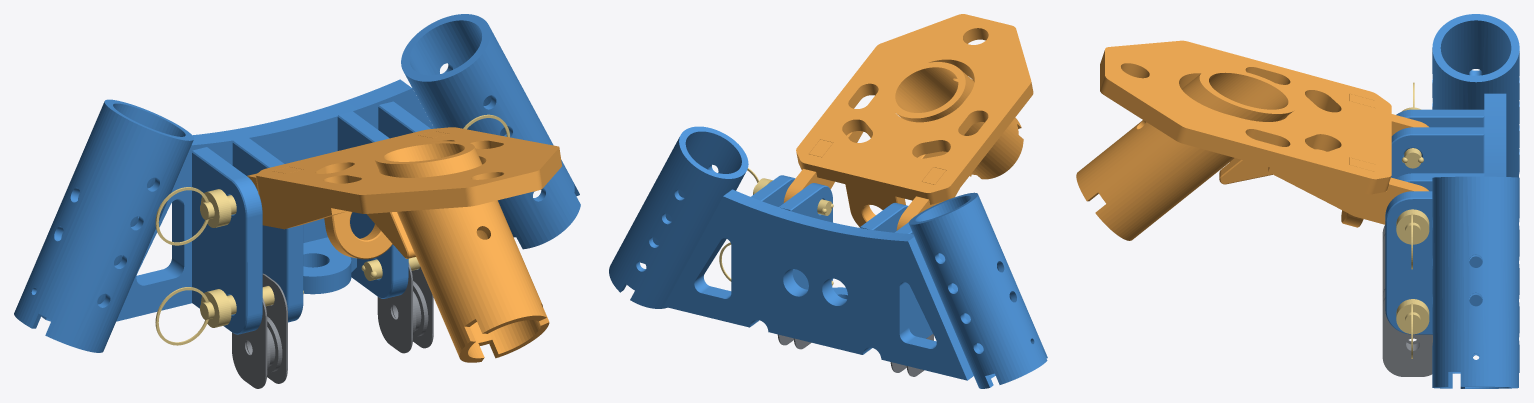
Rendered from cabeza_v9.glb.
The picture shows the model from 3 angles, left to right: view 1: azimuth 30°, elevation 25°; view 2: azimuth 150°, elevation 25°; view 3: azimuth 270°, elevation 25°; orthographic projection. The views are drawn at different scales.
Parts seen in each view (by area): view 1: c_02a, g_06, c_02b, g_05, c_01, c_03a, c_03b, c_PLi, c_03c, c_PLd, c_04, g_07a (+6 smaller); view 2: c_01, g_05, c_02a, c_02b, g_06, c_03c, g_08, g_07b, c_03a, c_03b, g_07a, c_03d (+1 smaller); view 3: g_05, c_02b, g_06, c_02a, c_03d, c_03b, g_07b, c_PLd, c_01, c_03a, c_P-I1d, c_P-I2d (+4 smaller).
Boxes of the visible parts, <box> form: c_02a: <box>14,99,193,352</box>; g_06: <box>374,141,549,362</box>; c_02b: <box>401,14,580,249</box>; g_05: <box>255,127,561,213</box>; c_01: <box>116,79,433,321</box>; c_03a: <box>192,147,262,334</box>; c_03b: <box>232,137,303,322</box>; c_PLi: <box>232,273,287,388</box>; c_03c: <box>337,111,408,298</box>; c_PLd: <box>377,263,433,353</box>; c_04: <box>303,237,356,294</box>; g_07a: <box>247,167,347,229</box>; c_01: <box>663,189,973,380</box>; g_05: <box>796,14,1033,204</box>; c_02a: <box>908,192,1047,388</box>; c_02b: <box>609,126,748,308</box>; g_06: <box>888,62,1023,179</box>; c_03c: <box>779,183,832,289</box>; g_08: <box>845,184,905,226</box>; g_07b: <box>783,131,863,202</box>; c_03a: <box>895,222,932,338</box>; c_03b: <box>859,202,908,232</box>; g_07a: <box>896,167,959,230</box>; c_03d: <box>751,175,795,206</box>; g_05: <box>1100,40,1391,194</box>; c_02b: <box>1432,176,1519,388</box>; g_06: <box>1076,68,1297,240</box>; c_02a: <box>1432,14,1519,177</box>; c_03d: <box>1385,191,1482,334</box>; c_03b: <box>1391,127,1484,178</box>; g_07b: <box>1268,157,1428,224</box>; c_PLd: <box>1382,289,1432,376</box>; c_01: <box>1484,93,1506,176</box>; c_03a: <box>1396,109,1484,127</box>; c_P-I1d: <box>1396,209,1429,269</box>; c_P-I2d: <box>1396,299,1429,358</box>.
Size of the model in its own units: 417 by 223 by 323.
